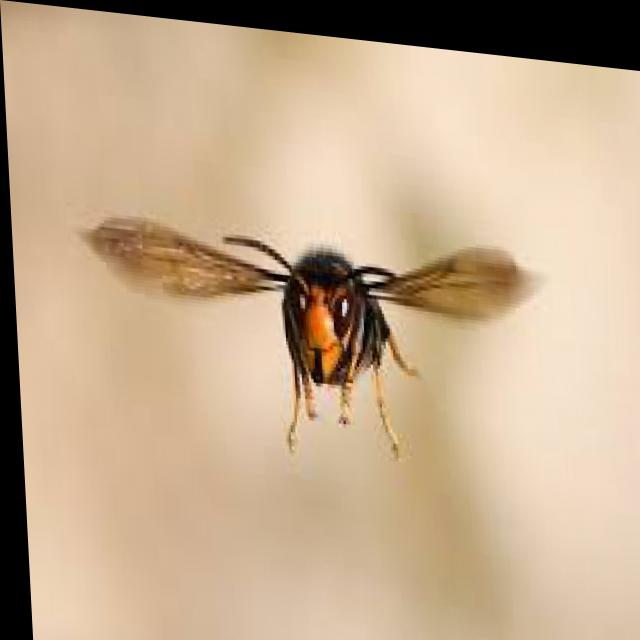Vespa Velutina: (65, 181, 559, 483)
